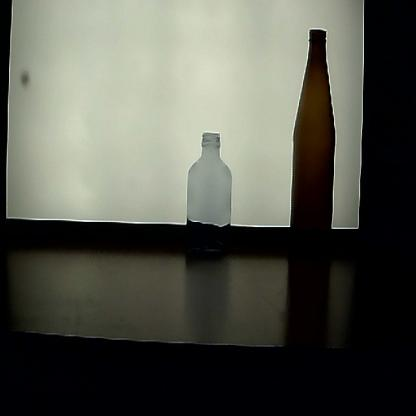Can: (286, 26, 338, 272), (178, 126, 237, 268)
